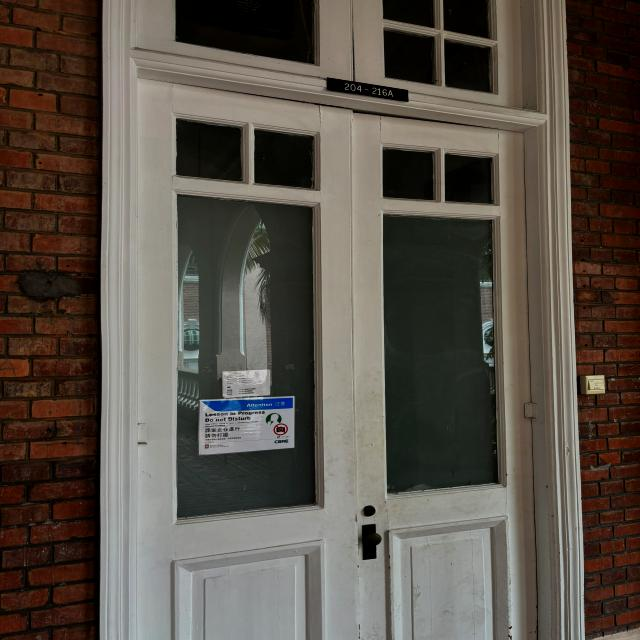MB204_roomNumber: (323, 73, 415, 111)
